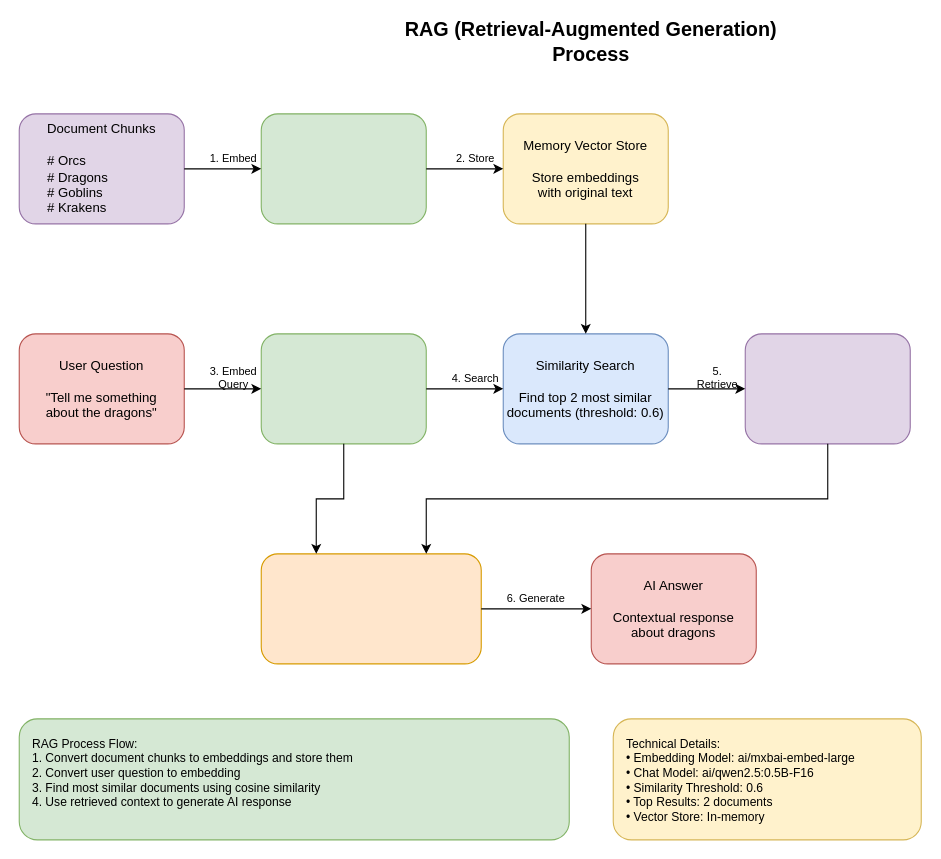
This 941x859 diagram has some shape labels left out. The centre of each missing label's shape, as x and y in pixels:
"Chat Completion Model: qwen2.5:0.5B-F16 Generate answer using retrieved context" belongs at point (370, 608).
"Embedding Generation Model: mxbai-embed-large Convert text to vectors" belongs at point (343, 168).
"Question Embedding Convert user question to vector" belongs at point (343, 388).
"Retrieved Documents Most relevant chunks based on similarity" belongs at point (827, 388).
